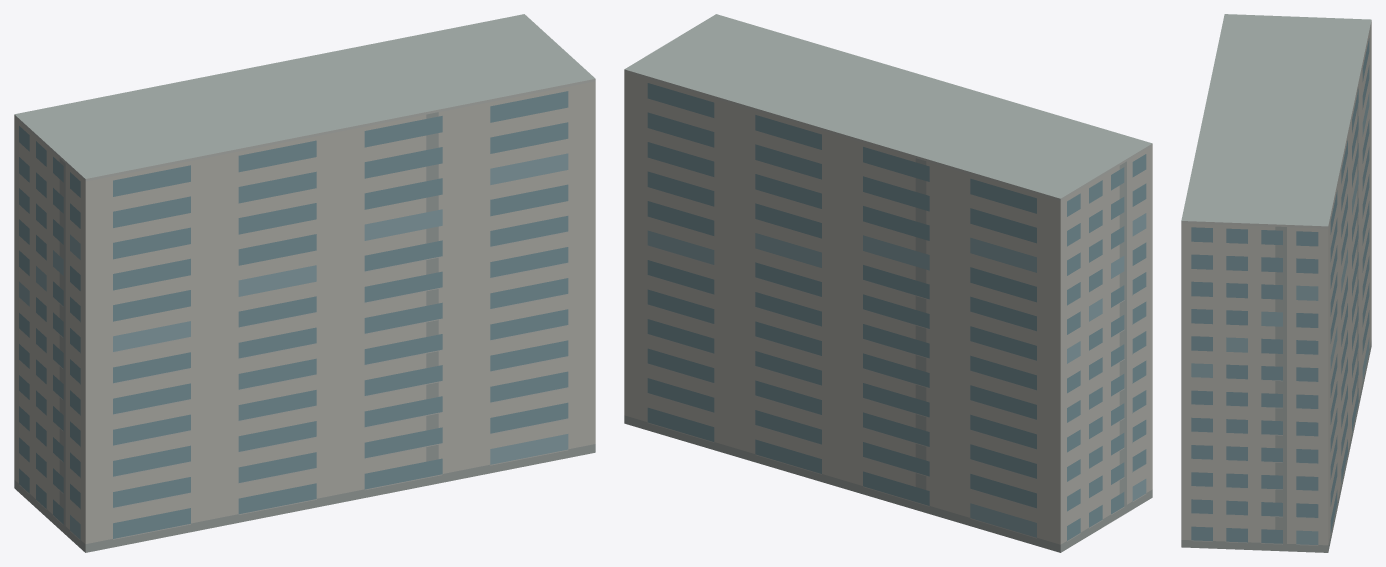
Rendered from residential-bb542220-c9ad-4102-ac23-54bfc6e838fd.glb.
The picture shows the model from 3 angles, left to right: view 1: azimuth 30°, elevation 25°; view 2: azimuth 150°, elevation 25°; view 3: azimuth 270°, elevation 25°; orthographic projection. The views are drawn at different scales.
Parts seen in each view (by area): view 1: residential-bb542220-c9ad-4102-ac23-54bfc6e838fd.tmp; view 2: residential-bb542220-c9ad-4102-ac23-54bfc6e838fd.tmp; view 3: residential-bb542220-c9ad-4102-ac23-54bfc6e838fd.tmp.
Boxes of the visible parts, box(x1,y1,x2,y2) form: residential-bb542220-c9ad-4102-ac23-54bfc6e838fd.tmp: box(14, 14, 595, 552); residential-bb542220-c9ad-4102-ac23-54bfc6e838fd.tmp: box(624, 14, 1152, 552); residential-bb542220-c9ad-4102-ac23-54bfc6e838fd.tmp: box(1181, 14, 1371, 552).
Size of the model in its own units: 51.07 by 36.6 by 19.35.
